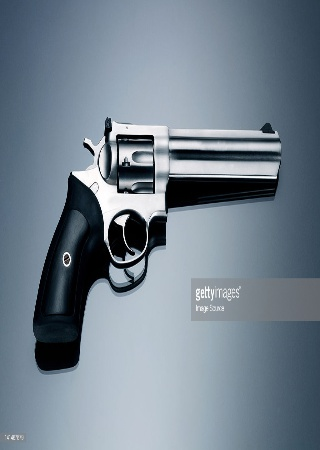handgun: (32, 116, 283, 345)
